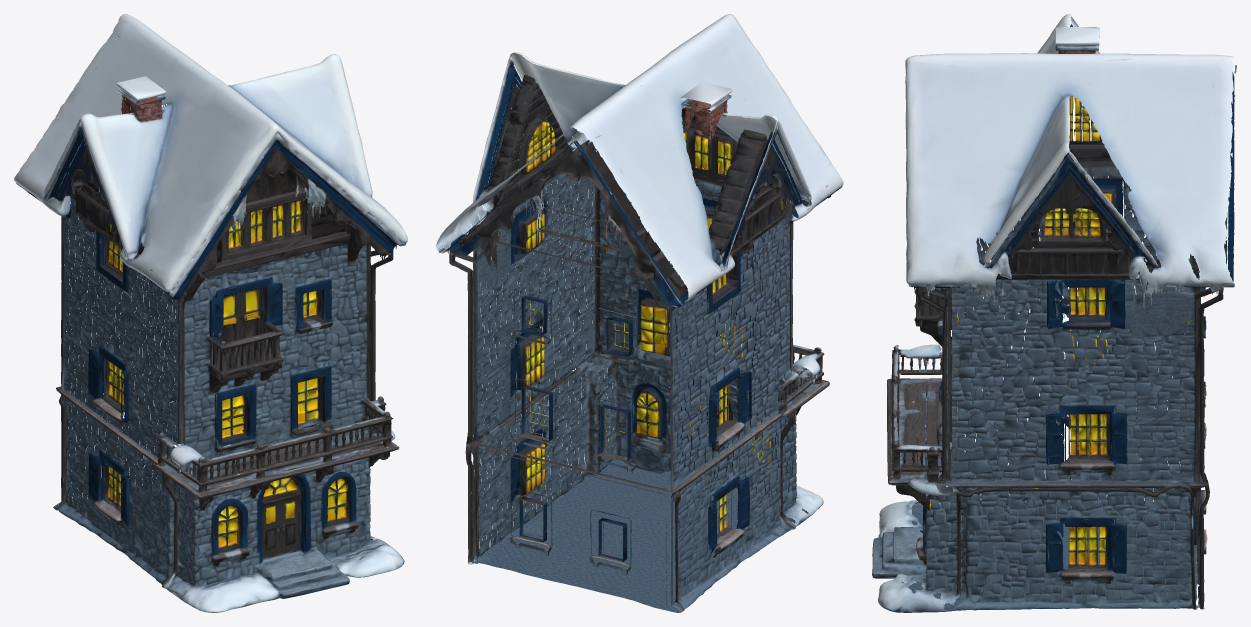
File: alpine_block.glb
The picture shows the model from 3 angles, left to right: view 1: azimuth 30°, elevation 25°; view 2: azimuth 150°, elevation 25°; view 3: azimuth 270°, elevation 25°; orthographic projection. The views are drawn at different scales.
Size of the model in its own units: 1.12 by 1.9 by 1.27.
Materials: 1 (1 with a texture image).
